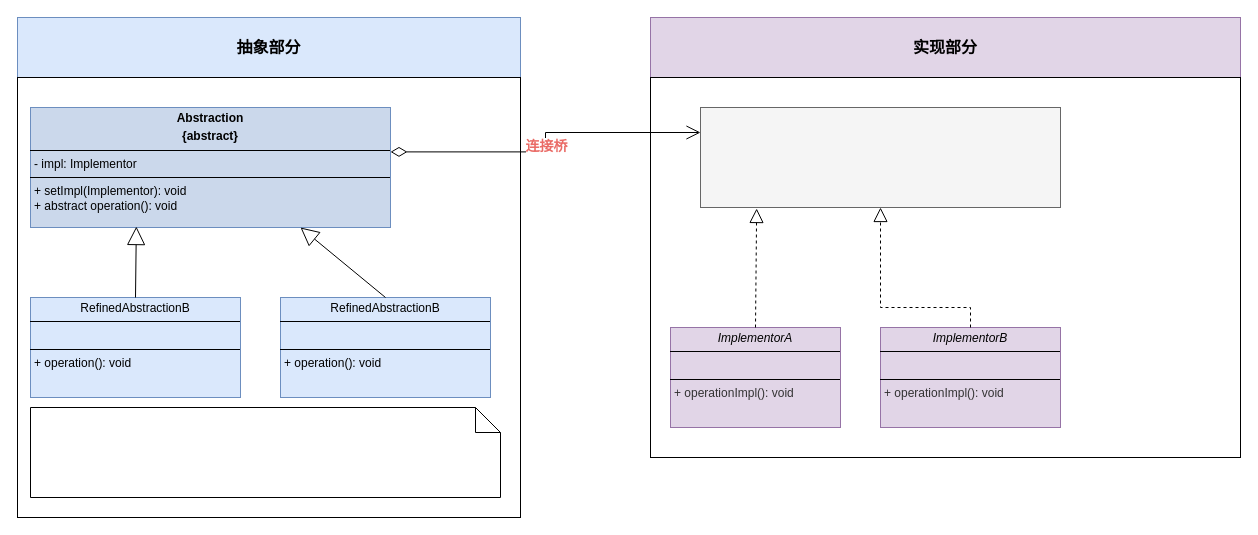
The diagram is 1258 pixels wide and 535 high, and some of its shapes have lost their labels. Each missing label, with the centre of its shape:
"<<Interface>> Implementor + operationImpl(): void" goes at (x=880, y=157).
"public void operation(){ impl.operationImpl(); }" goes at (x=265, y=452).
